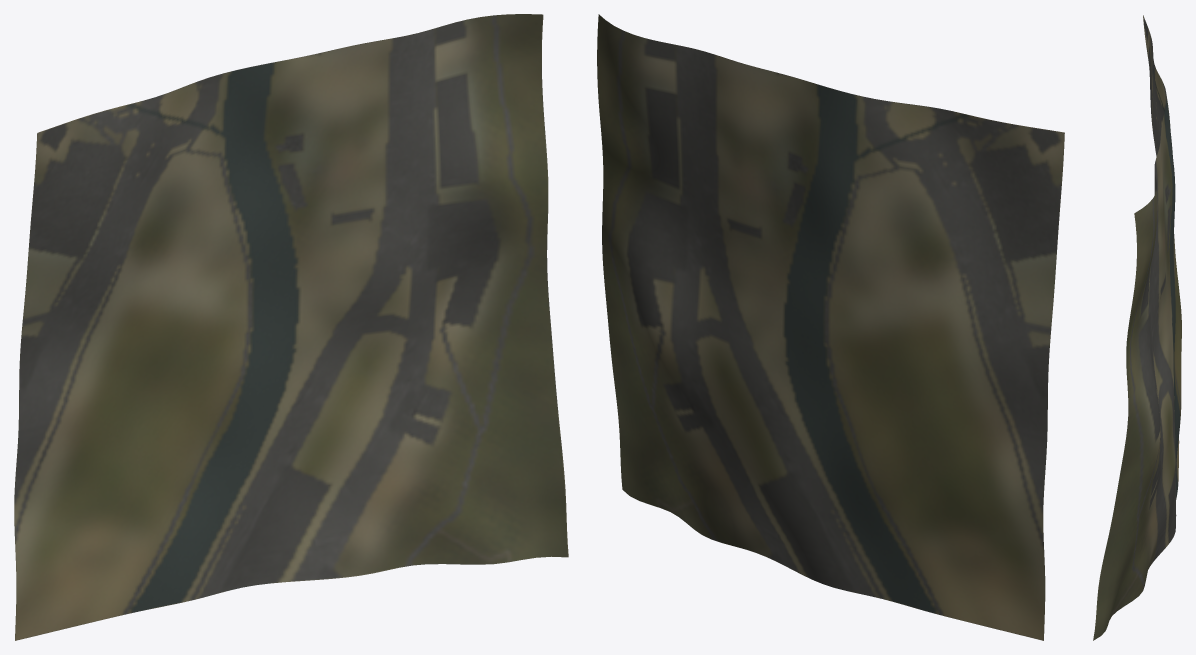
File: ground_mid_05_03.obj
3 views of the same model, side by side, from view 1: azimuth 30°, elevation 25°; view 2: azimuth 150°, elevation 25°; view 3: azimuth 270°, elevation 25° (orthographic). The views are drawn at different scales.
Visible parts, largest first — view 1: ground_mid_05_03; view 2: ground_mid_05_03; view 3: ground_mid_05_03.
Part boxes in pixels (bbox=[...]): ground_mid_05_03: bbox=[14, 14, 568, 640]; ground_mid_05_03: bbox=[597, 14, 1064, 640]; ground_mid_05_03: bbox=[1093, 15, 1181, 640].
Bounding box in the file's own units: 200 × 200 × 37.68.
1 material, 1 textured.
